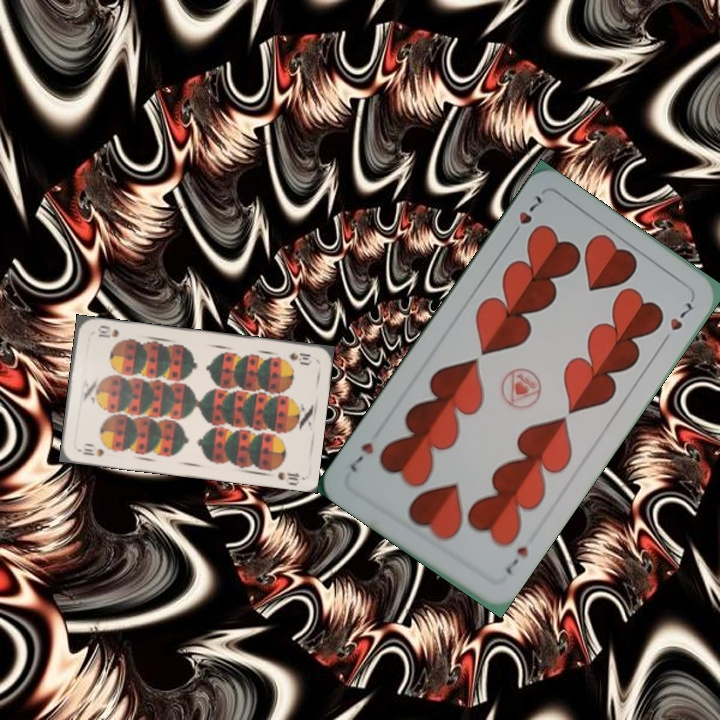H7: (506, 191, 545, 241), (501, 542, 532, 577)
S10: (284, 348, 313, 366), (79, 444, 106, 459)
